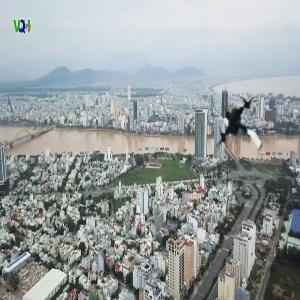drone: (206, 96, 278, 168)
